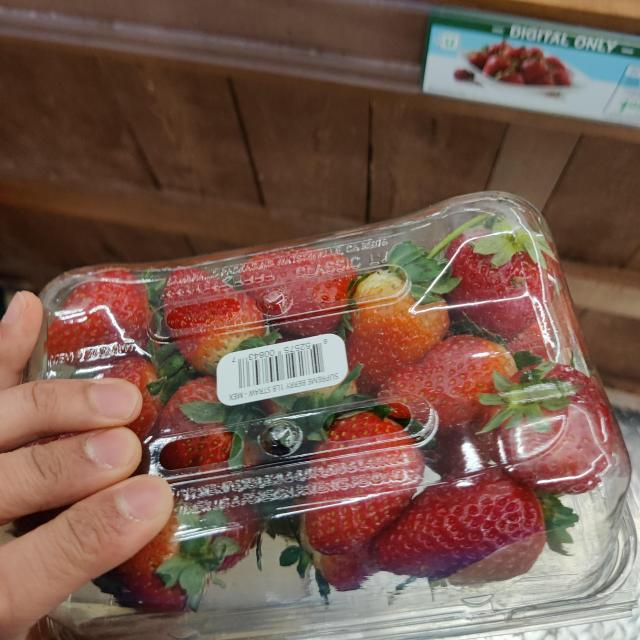Strawberry: (33, 215, 640, 640)
